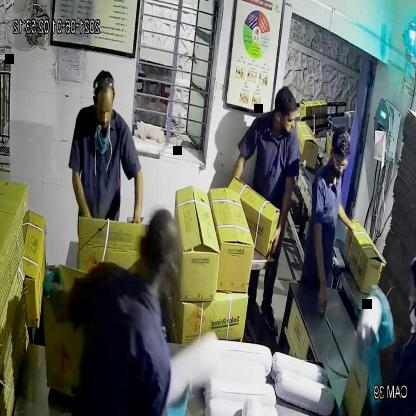goggles: (326, 152, 353, 176)
